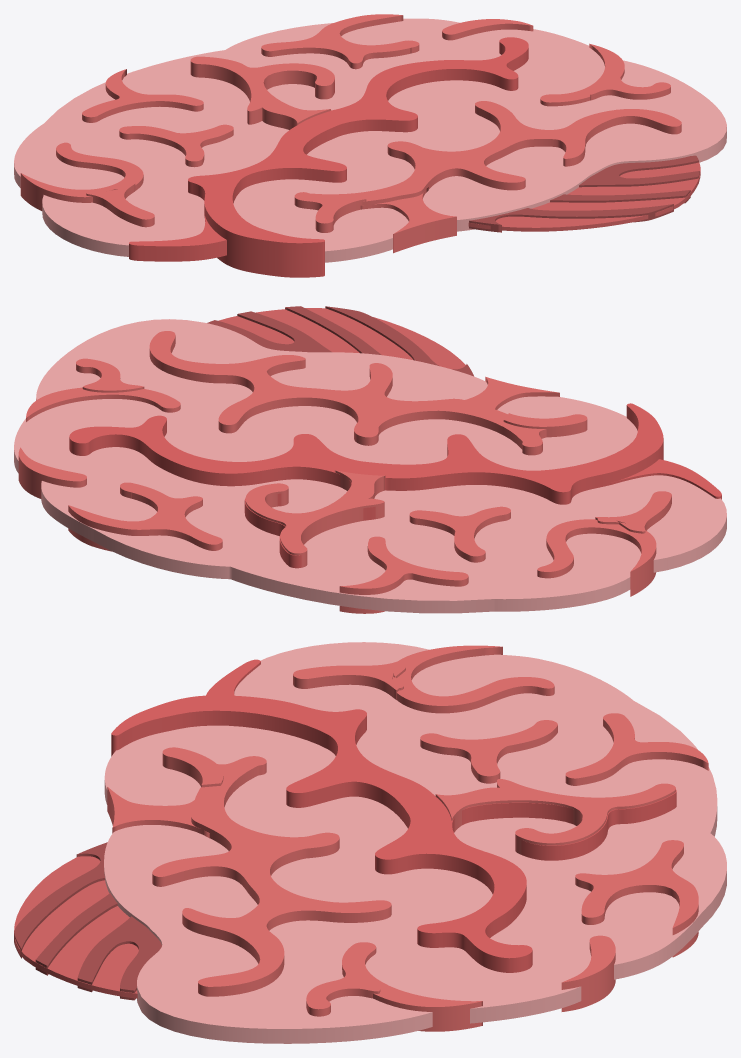
File: emoji_u1f9e0.glb
3 renders of one model, top to bottom at view 1: azimuth 30°, elevation 25°; view 2: azimuth 150°, elevation 25°; view 3: azimuth 270°, elevation 25°, orthographic. The views are drawn at different scales.
Parts seen in each view (by area): view 1: emoji_u1f9e0; view 2: emoji_u1f9e0; view 3: emoji_u1f9e0.
Part boxes in pixels (x1,y1,x2,y2): emoji_u1f9e0: (14,14,726,277); emoji_u1f9e0: (14,306,726,613); emoji_u1f9e0: (14,642,726,1043).
Size of the model in its own units: 0.0336 by 0.002 by 0.0262.
